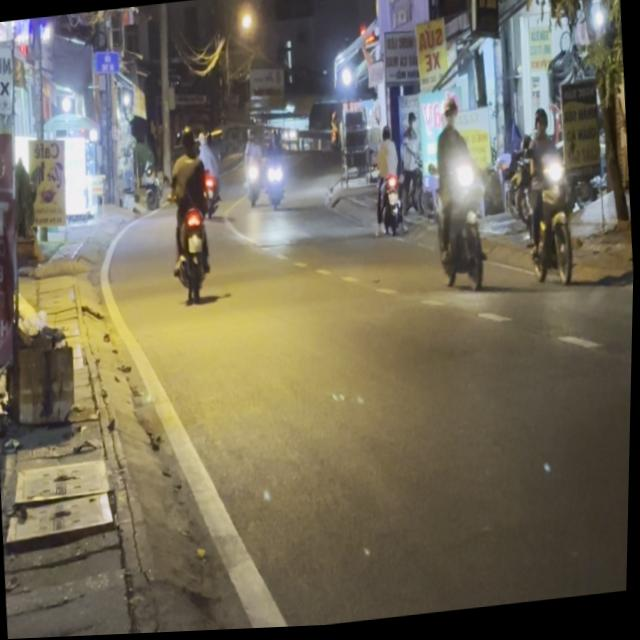helmet: (442, 94, 463, 130), (535, 109, 551, 141)
licenseplate: (425, 90, 498, 299), (518, 105, 584, 295)
